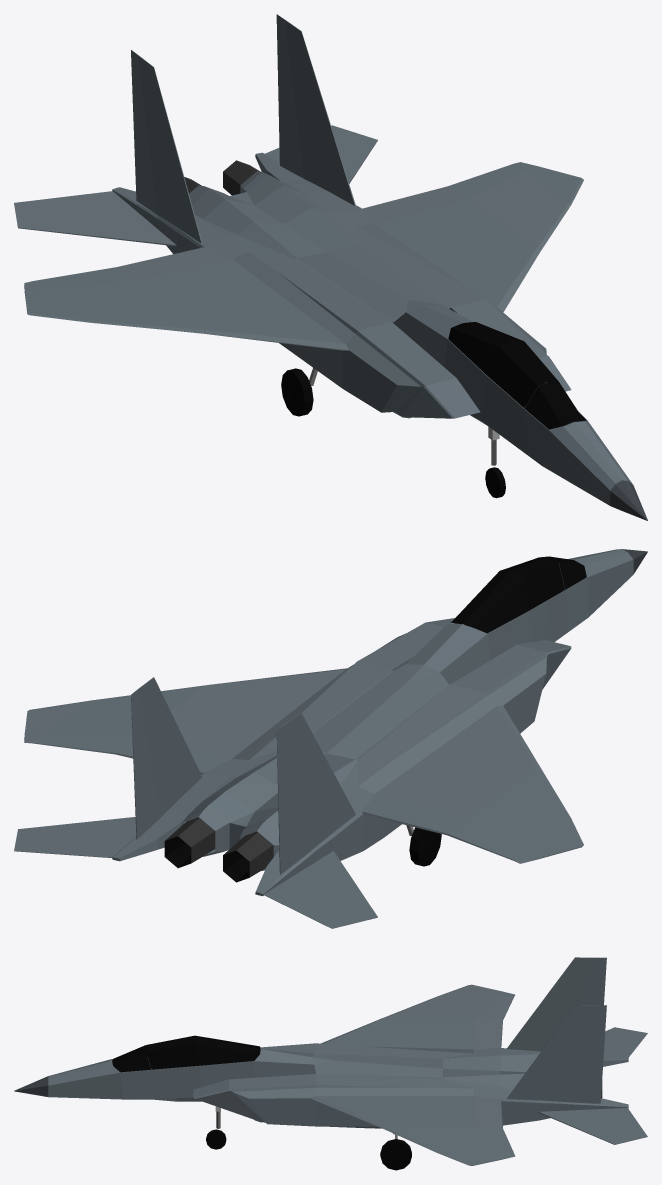
The picture shows the model from 3 angles, top to bottom: view 1: azimuth 30°, elevation 25°; view 2: azimuth 150°, elevation 25°; view 3: azimuth 270°, elevation 25°; orthographic projection. The views are drawn at different scales.
Visible parts, largest first — view 1: Circle.052, Circle.064, Circle.053, Circle.057, Circle.063, Circle.062, Circle.054, Circle.056, Landing gear_RL.009, Circle.055, Circle.061, Landing gear_F.004; view 2: Circle.052, Circle.064, Circle.053, Circle.056, Circle.063, Circle.057, Circle.054, Circle.055, Circle.061, Landing gear_RL.009, Circle.062; view 3: Circle.052, Circle.053, Circle.056, Circle.057, Circle.064, Circle.054, Circle.062, Landing gear_RL.008, Circle.063, Circle.061, Circle.055, Landing gear_F.004.
Boxes of the visible parts, x1=… form: Circle.052: x1=24, y1=20, x2=647, y2=520; Circle.064: x1=14, y1=191, x2=176, y2=246; Circle.053: x1=448, y1=322, x2=558, y2=407; Circle.057: x1=276, y1=14, x2=304, y2=178; Circle.063: x1=131, y1=50, x2=157, y2=214; Circle.062: x1=362, y1=186, x2=467, y2=223; Circle.054: x1=116, y1=247, x2=231, y2=280; Circle.056: x1=265, y1=125, x2=377, y2=183; Landing gear_RL.009: x1=281, y1=368, x2=317, y2=416; Circle.055: x1=32, y1=267, x2=135, y2=289; Circle.061: x1=448, y1=163, x2=525, y2=199; Landing gear_F.004: x1=485, y1=426, x2=505, y2=498; Circle.052: x1=24, y1=549, x2=647, y2=896; Circle.064: x1=264, y1=851, x2=377, y2=928; Circle.053: x1=449, y1=556, x2=564, y2=633; Circle.056: x1=14, y1=817, x2=136, y2=857; Circle.063: x1=276, y1=724, x2=306, y2=874; Circle.057: x1=131, y1=689, x2=159, y2=839; Circle.054: x1=362, y1=793, x2=467, y2=835; Circle.055: x1=447, y1=817, x2=525, y2=860; Circle.061: x1=32, y1=733, x2=132, y2=754; Landing gear_RL.009: x1=406, y1=825, x2=441, y2=866; Circle.062: x1=116, y1=740, x2=231, y2=774; Circle.052: x1=14, y1=957, x2=628, y2=1165; Circle.053: x1=146, y1=1035, x2=260, y2=1069; Circle.056: x1=538, y1=1108, x2=647, y2=1144; Circle.057: x1=569, y1=1005, x2=606, y2=1103; Circle.064: x1=603, y1=1027, x2=647, y2=1057; Circle.054: x1=473, y1=1018, x2=502, y2=1049; Circle.062: x1=473, y1=1096, x2=502, y2=1127; Landing gear_RL.008: x1=380, y1=1133, x2=411, y2=1170; Circle.063: x1=583, y1=957, x2=606, y2=1005; Circle.061: x1=475, y1=1126, x2=513, y2=1153; Circle.055: x1=475, y1=996, x2=514, y2=1019; Landing gear_F.004: x1=206, y1=1106, x2=226, y2=1149.
Bounding box in the file's own units: 1284 × 556 × 1903.
